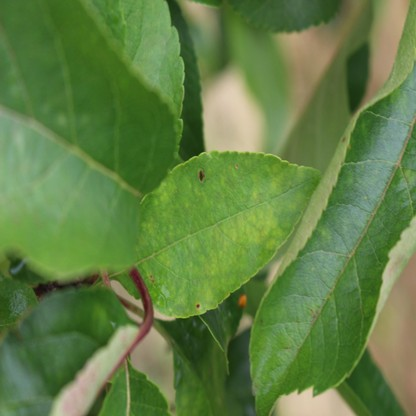rust: (239, 295, 247, 309)
scab: (134, 151, 316, 313)
